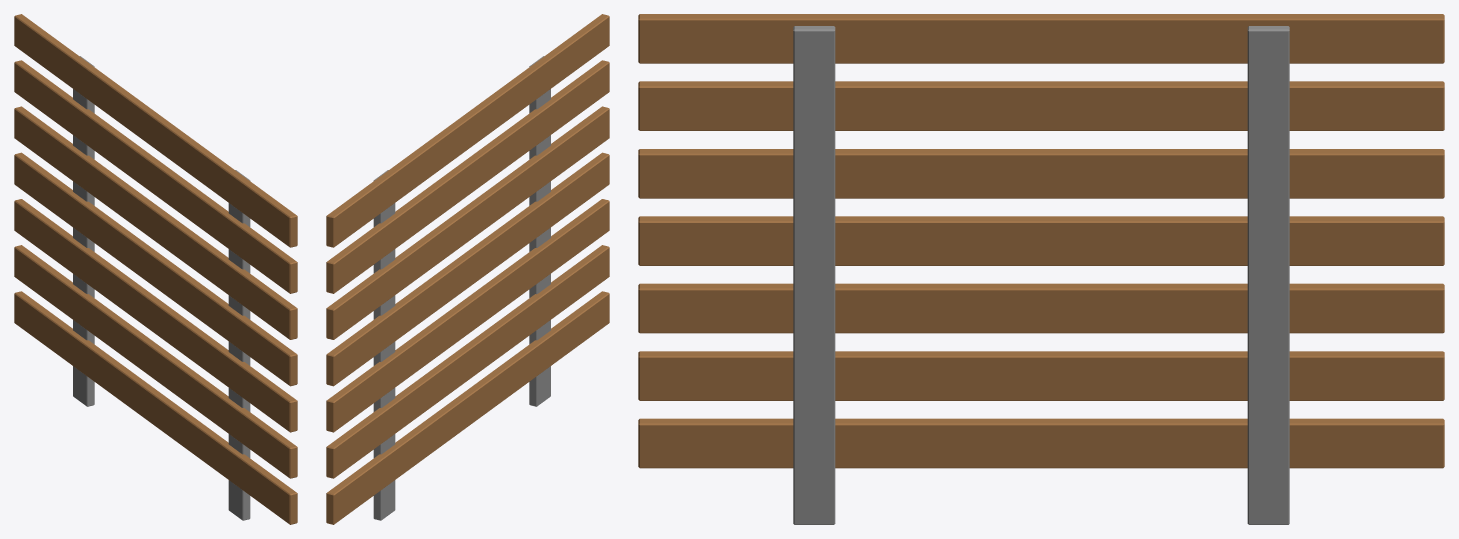
The model's file is Vallas altas_UV.fbx.
The picture shows the model from 3 angles, left to right: view 1: azimuth 30°, elevation 25°; view 2: azimuth 150°, elevation 25°; view 3: azimuth 270°, elevation 25°; orthographic projection. The views are drawn at different scales.
Parts seen in each view (by area): view 1: Cube.084; view 2: Cube.084; view 3: Cube.084.
Part boxes in pixels (x1,y1,x2,y2): Cube.084: (14,14,297,524); Cube.084: (326,14,609,524); Cube.084: (638,14,1444,524).
Bounding box in the file's own units: 25.8 × 610 × 887.
